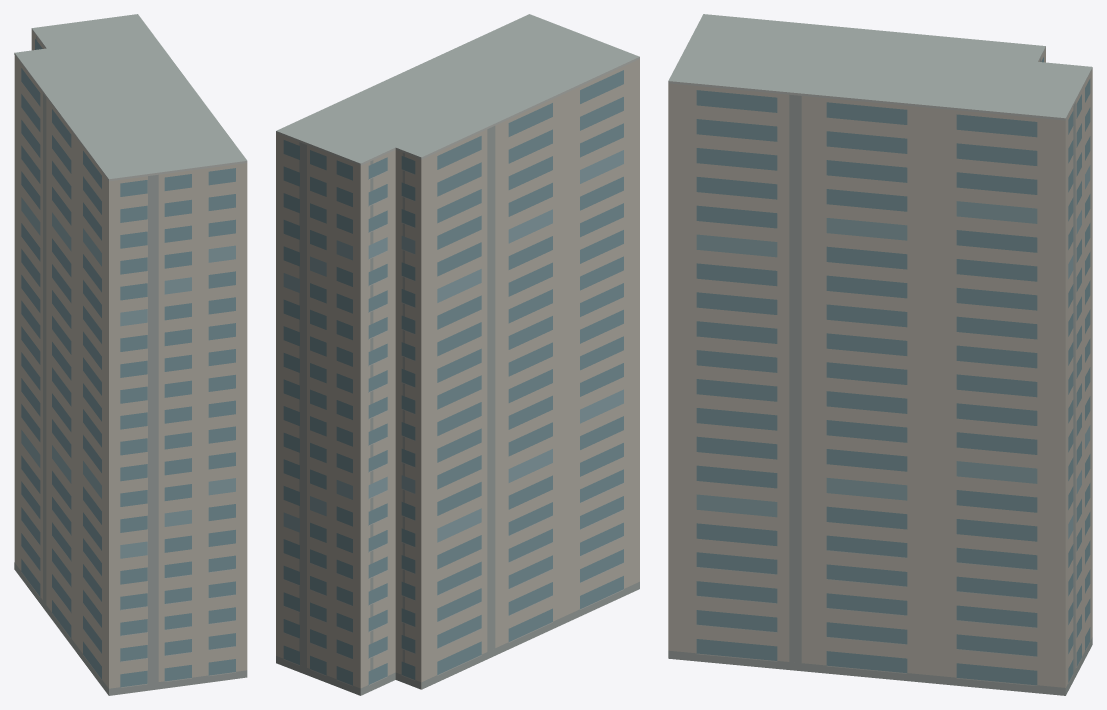
File: residential-ec80bc77-033f-4070-b9fb-340d55ffa22a.glb
3 views of the same model, side by side, from view 1: azimuth 30°, elevation 25°; view 2: azimuth 150°, elevation 25°; view 3: azimuth 270°, elevation 25° (orthographic). The views are drawn at different scales.
Visible parts, largest first — view 1: residential-ec80bc77-033f-4070-b9fb-340d55ffa22a.tmp; view 2: residential-ec80bc77-033f-4070-b9fb-340d55ffa22a.tmp; view 3: residential-ec80bc77-033f-4070-b9fb-340d55ffa22a.tmp.
Boxes of the visible parts, left/top/right/bottom form: residential-ec80bc77-033f-4070-b9fb-340d55ffa22a.tmp: left=14, top=14, right=247, bottom=695; residential-ec80bc77-033f-4070-b9fb-340d55ffa22a.tmp: left=276, top=14, right=639, bottom=695; residential-ec80bc77-033f-4070-b9fb-340d55ffa22a.tmp: left=668, top=14, right=1092, bottom=695.
Size of the model in its own units: 23.24 by 60 by 39.96.
